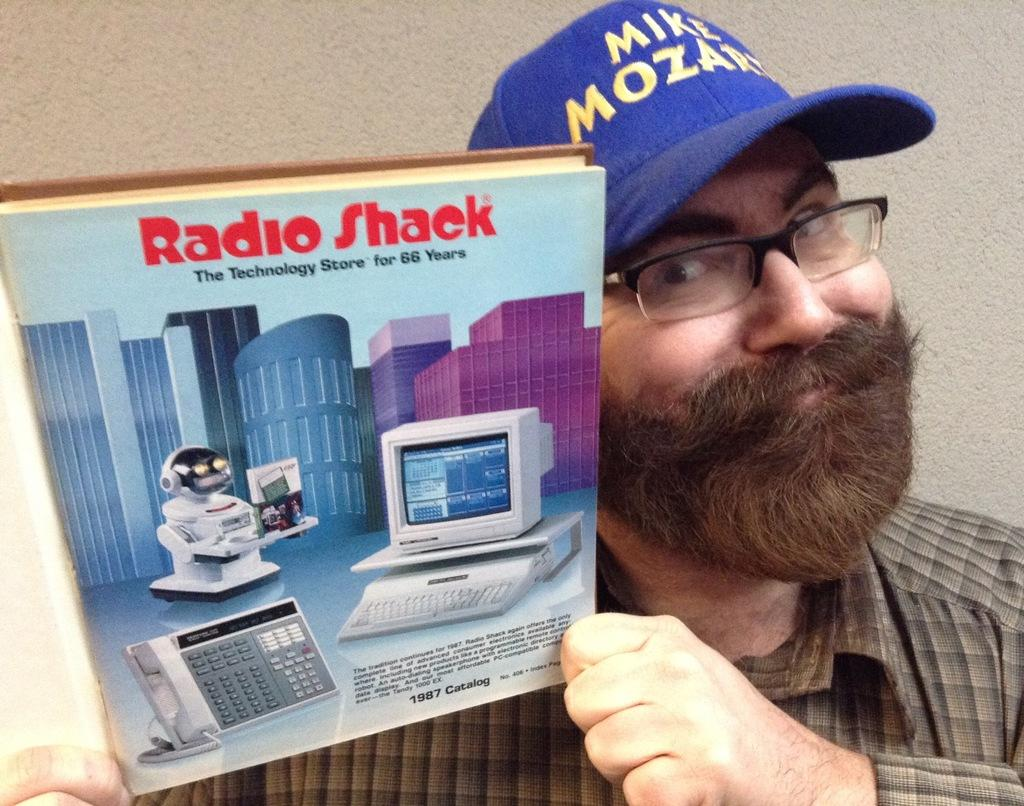Hat: (464, 0, 935, 266)
